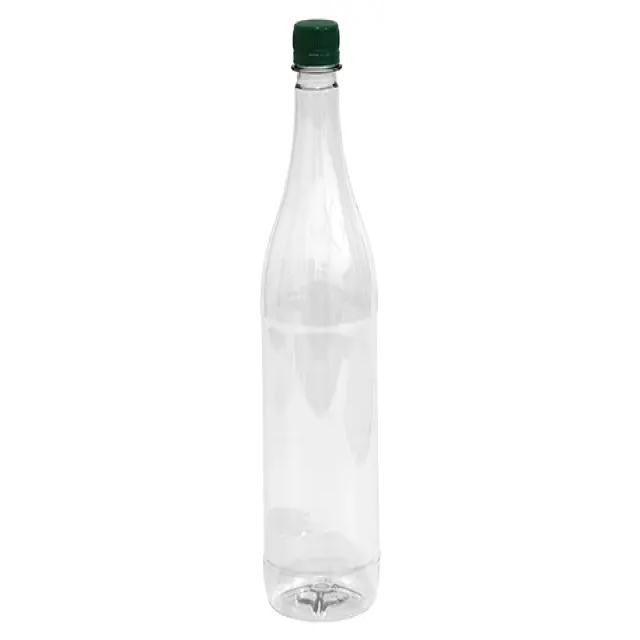bottom: (257, 548, 388, 628)
cap: (286, 0, 348, 95)
